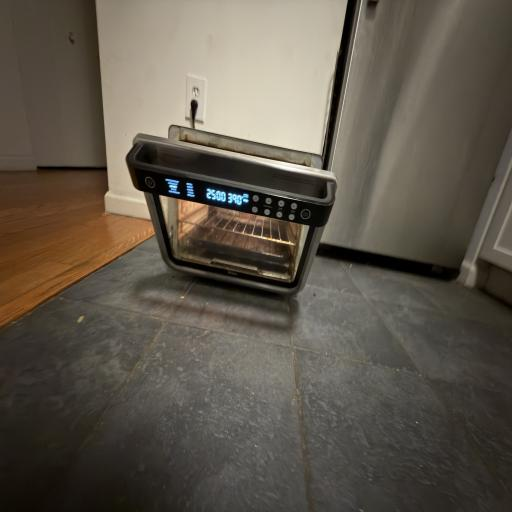Stove: (113, 123, 353, 326)
